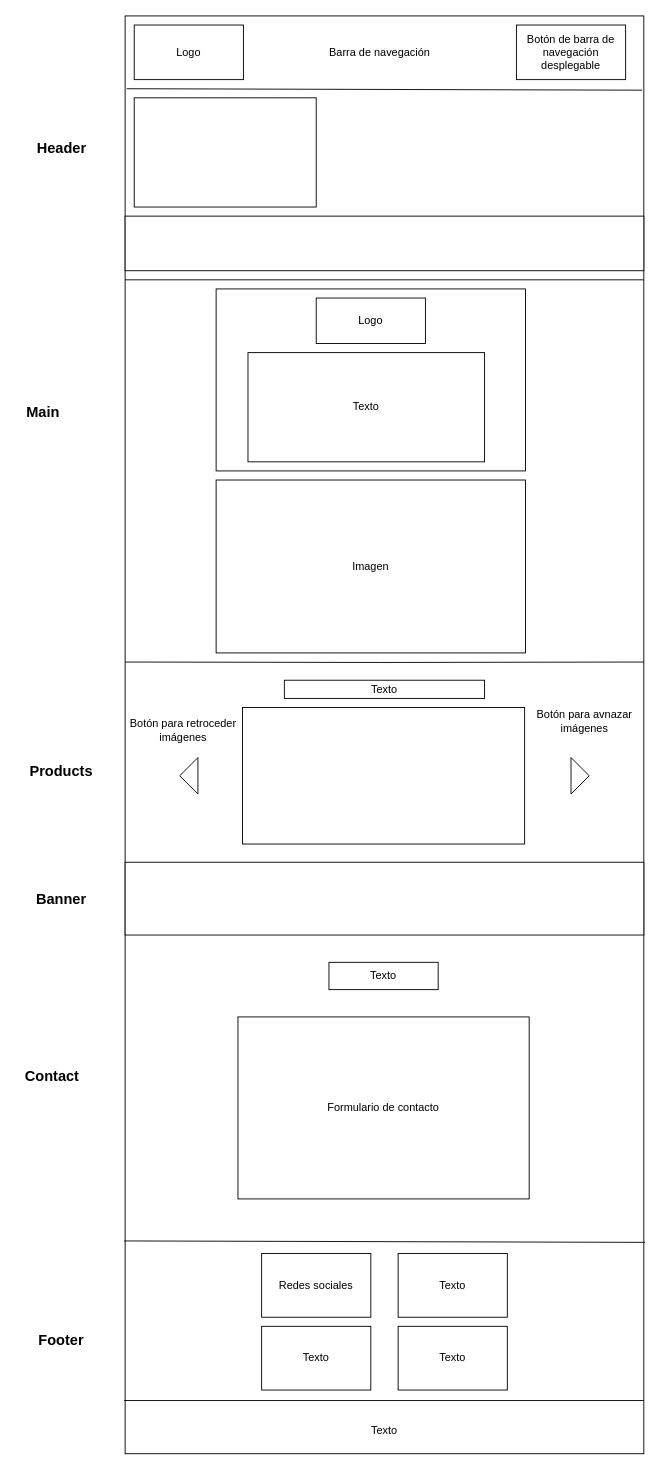
Some shapes in this 662 by 1470 pixel diagram are drawn without their labels. Here are the shapes that lost their labels. From the top down, the centre of each, then its label:
the point at 224,152: Links de navegación
the point at 384,243: Barra de búsqueda
the point at 383,775: Carrusel de imágenes
the point at 384,898: Banner de públicidad
